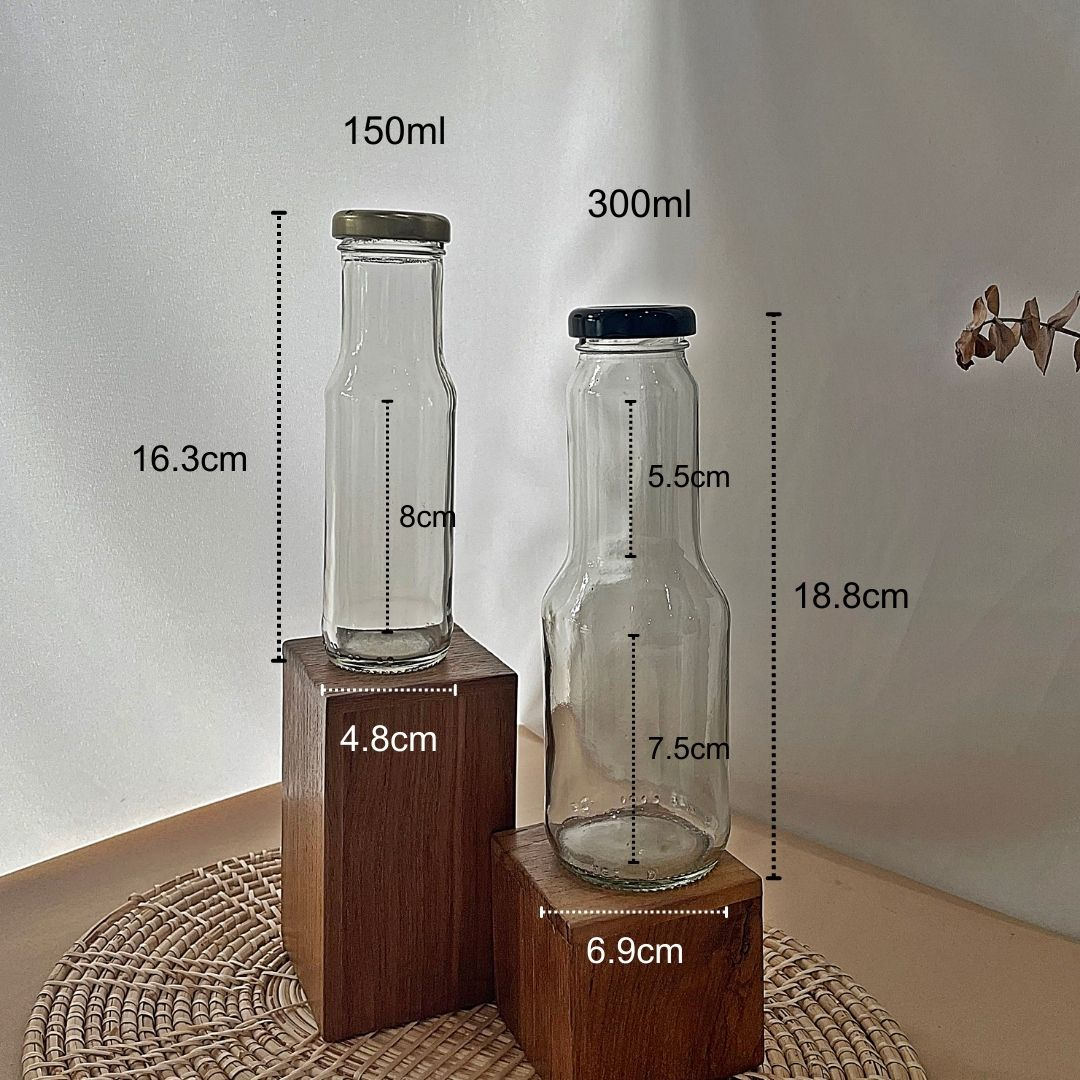glass_bottle: (530, 289, 744, 900), (304, 191, 485, 678)
